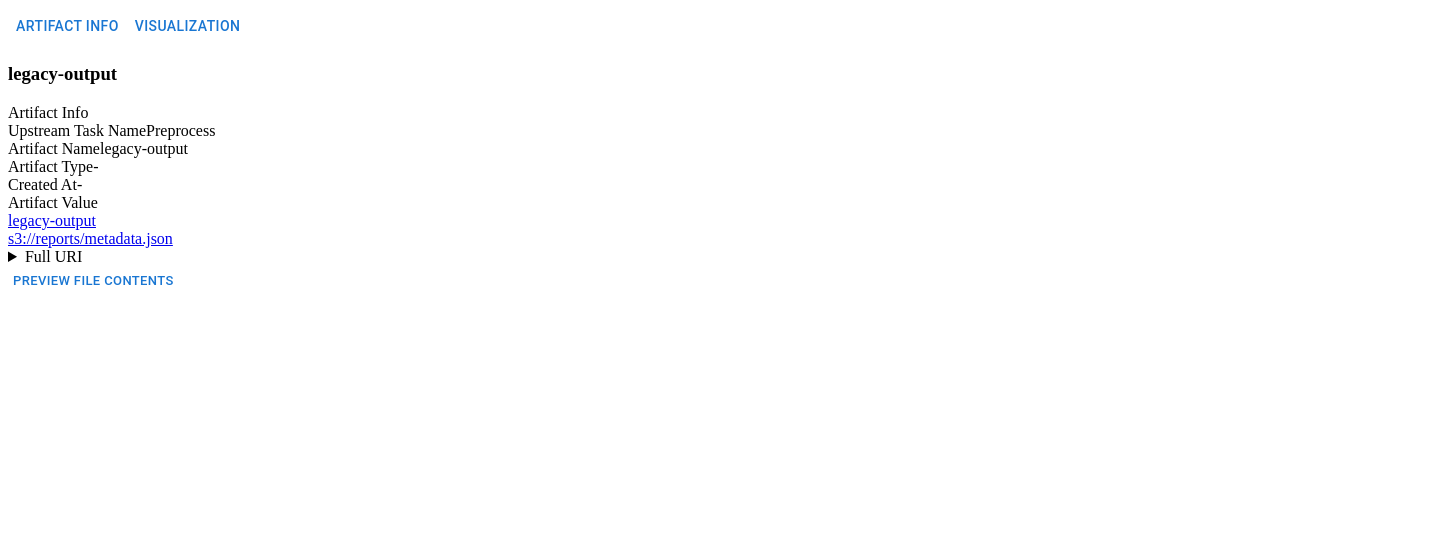
Test case: RuntimeNodeDetailsV2 › uses the native output key to restore legacy UI metadata visualizations
Step 1. Click the button "Visualization" → (188, 26), box left=127, top=8, right=248, bottom=44
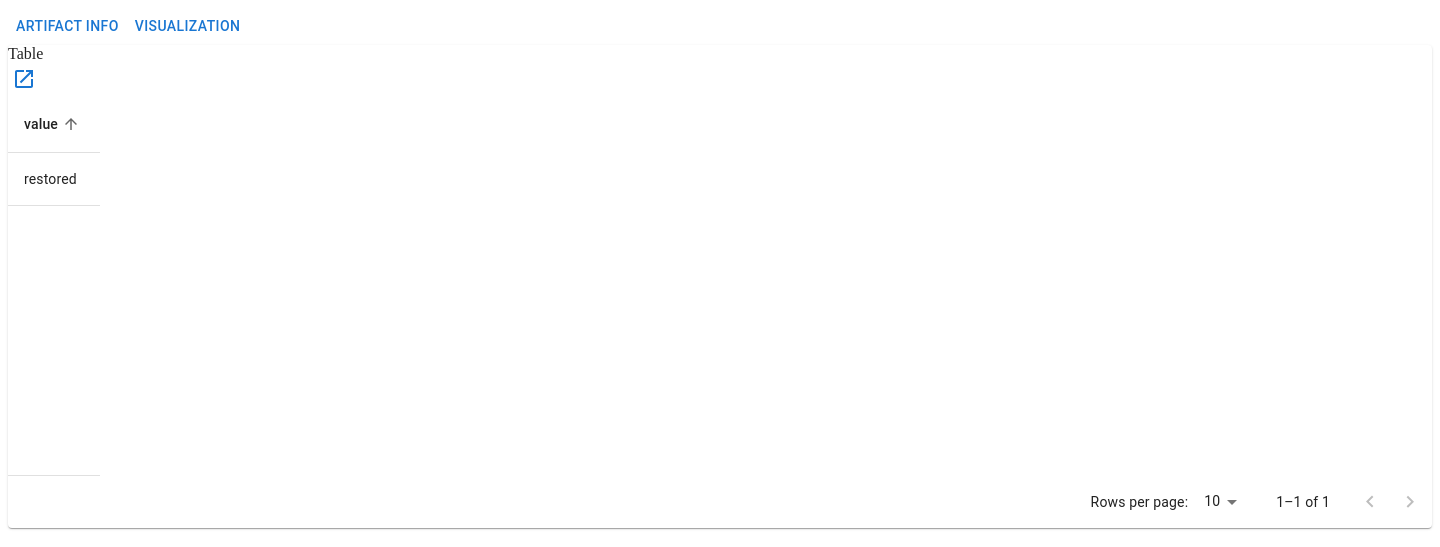
Expected: the text "restored" is shown, left=8, top=152, right=100, bottom=205
